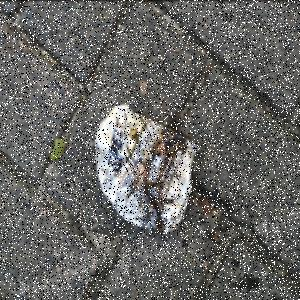Can: (92, 101, 202, 235)
